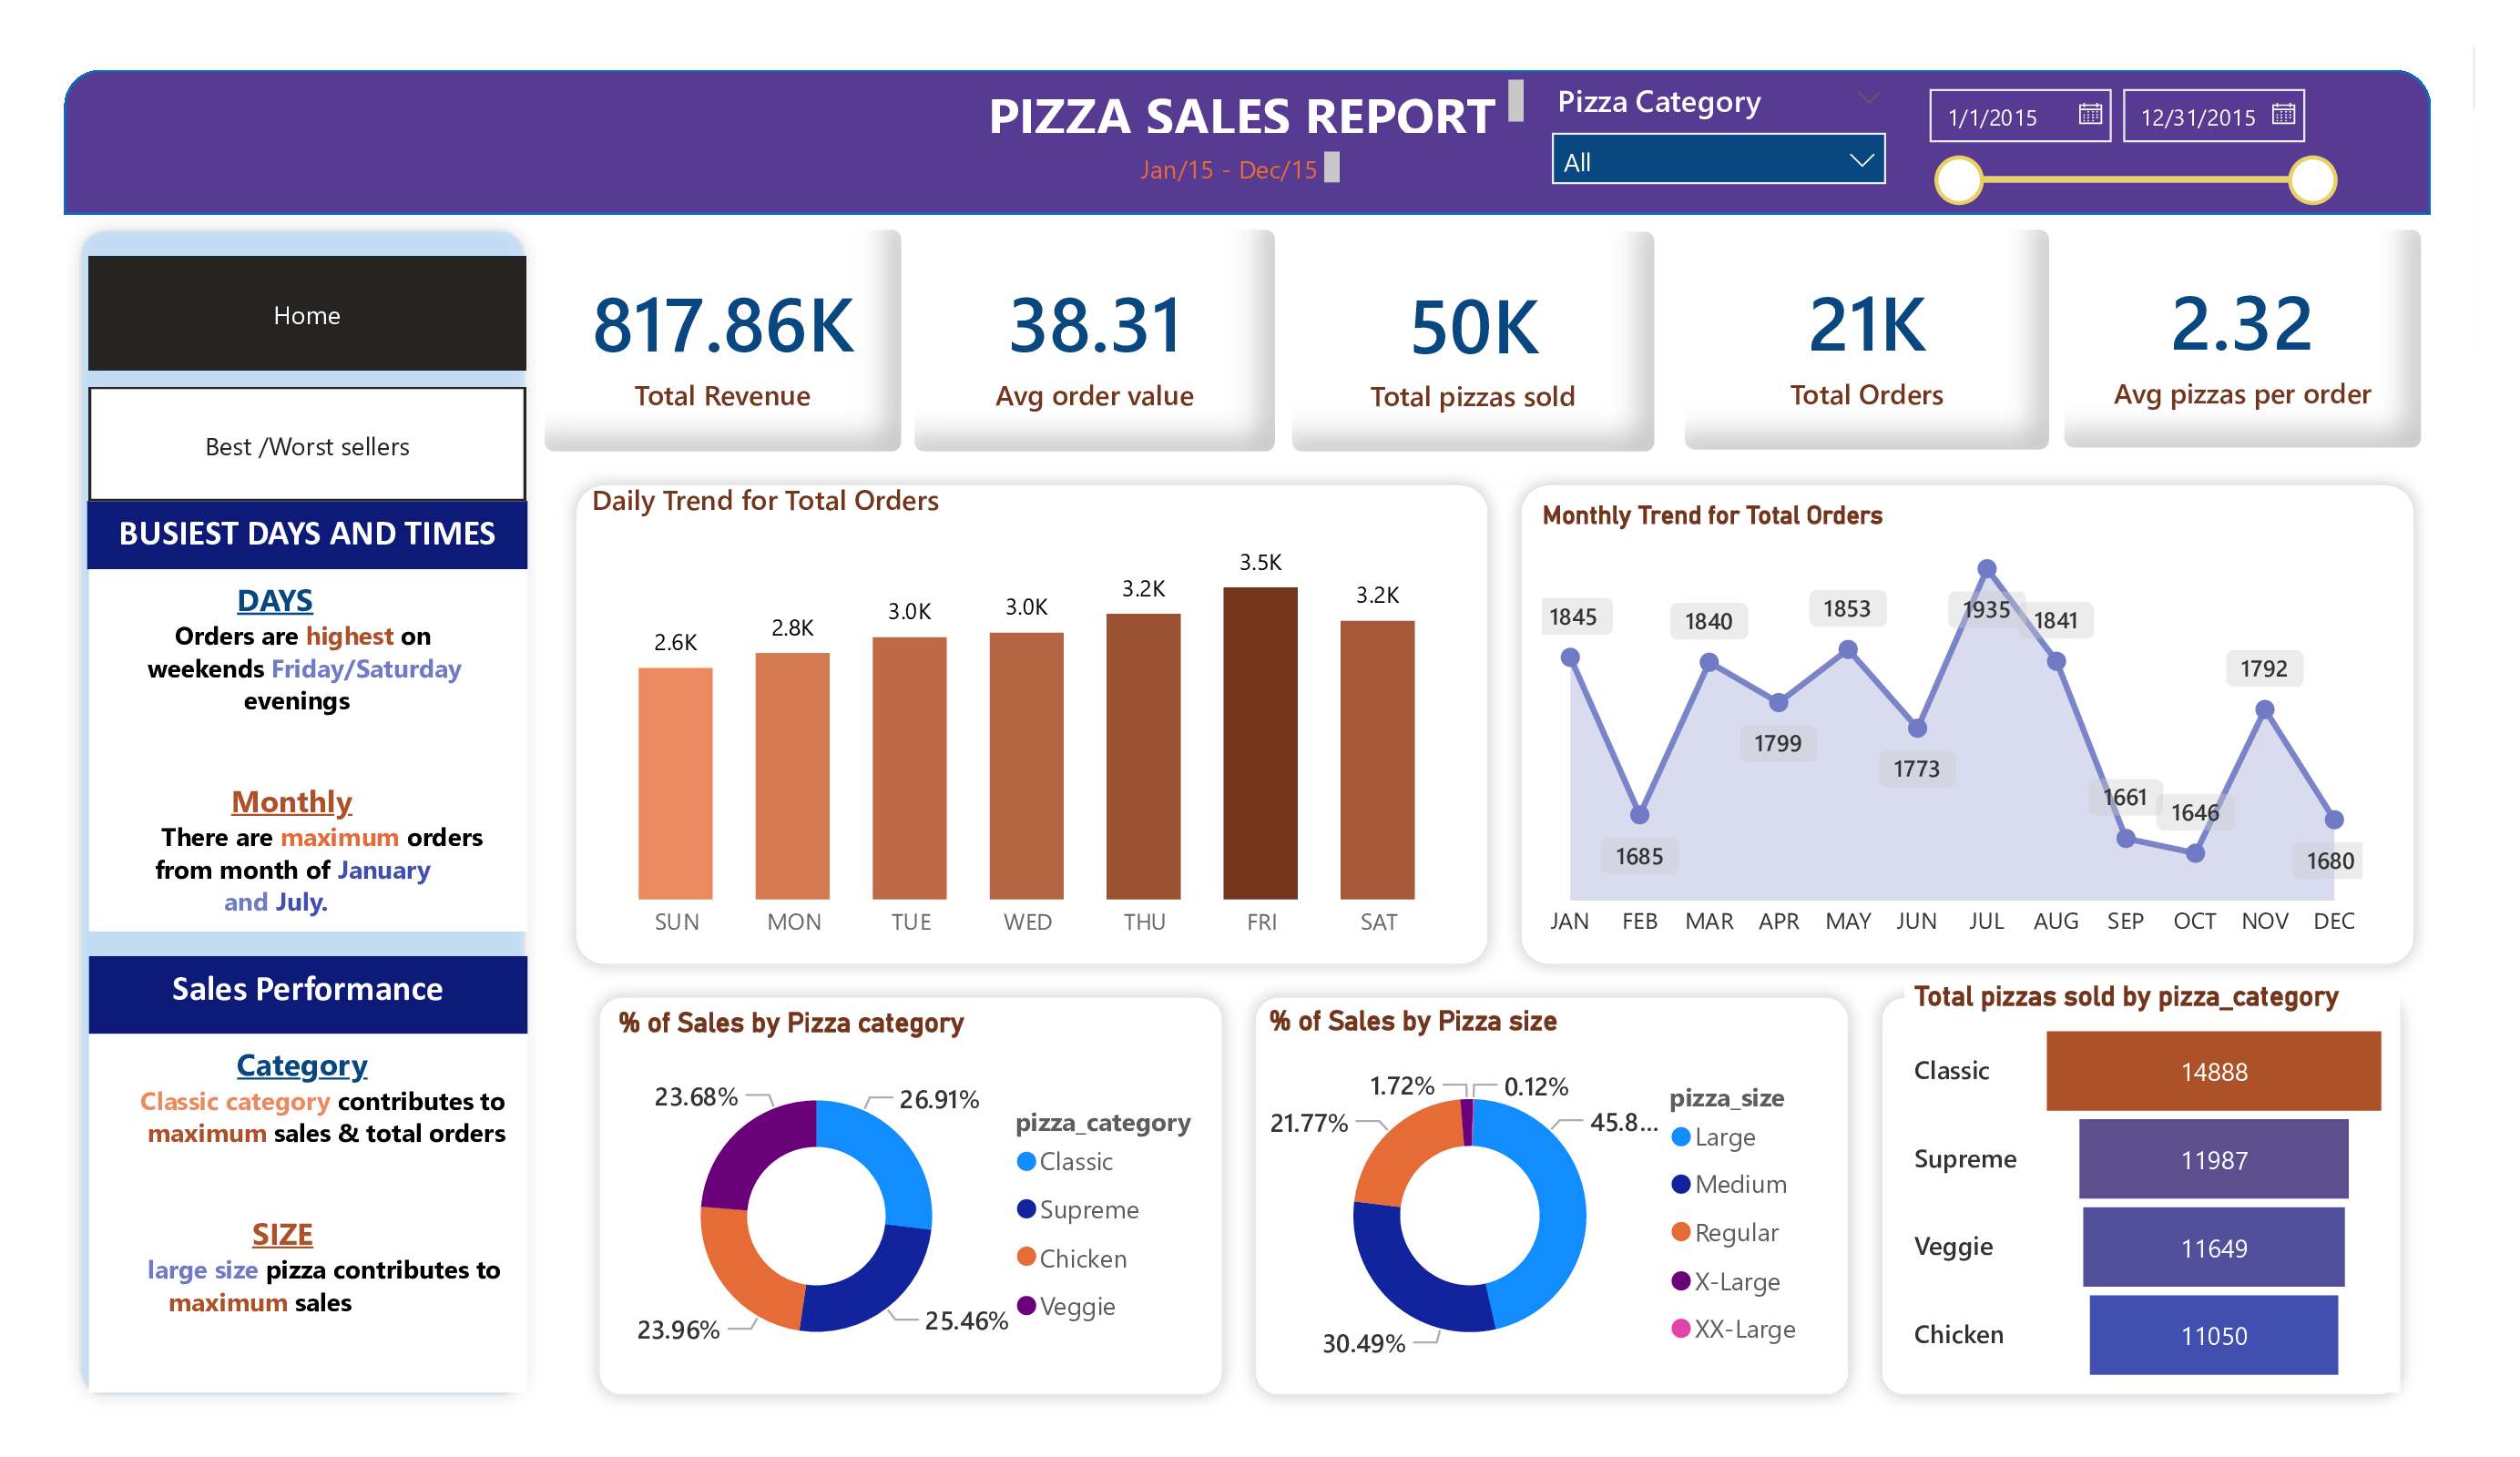

The page's visual inventory and layout, read from the dashboard file:
{"tool":"powerbi","page":{"name":"Home","canvas":[1280,720],"ordinal":0},"visuals":[{"type":"shape","box":[10,88.8,251.2,631.2],"z":0},{"type":"card","fields":{"Values":["pizza_sales.Total Revenue"]},"box":[262.1,96.1,190,119],"z":1000},{"type":"card","fields":{"Values":["pizza_sales.Avg order value"]},"box":[456.9,96.1,192.1,119],"z":2000},{"type":"card","fields":{"Values":["pizza_sales.Total pizzas sold"]},"box":[655.9,97.4,193.5,118],"z":3000},{"type":"card","fields":{"Values":["pizza_sales.Total Orders"]},"box":[863.1,96.1,193.5,118],"z":4000},{"type":"shape","box":[10,12.9,1247.1,75.7],"z":5000},{"type":"card","fields":{"Values":["pizza_sales.Avg pizzas per order"]},"box":[1063.5,96.1,189.4,116.6],"z":6000},{"type":"textbox","box":[485,13,299,38],"z":7000},{"type":"textbox","box":[569,51,118,26],"z":8000},{"type":"shape","box":[271.4,222.9,497.1,270],"z":9000},{"type":"columnChart","title":"Daily Trend for Total Orders","fields":{"Category":["pizza_sales.Order Day"],"Y":["pizza_sales.Total Orders"]},"box":[282.9,228.6,470,251.4],"z":10000},{"type":"shape","box":[768.6,222.9,488.6,270],"z":11000},{"type":"areaChart","title":"Monthly Trend for Total Orders","fields":{"Y":["pizza_sales.Total Orders"],"Category":["pizza_sales.Order Month"]},"box":[784.3,240,441.4,240],"z":12000},{"type":"shape","box":[282.9,492.9,345.7,227.1],"z":13000},{"type":"shape","box":[628.6,492.9,330,227.1],"z":14000},{"type":"shape","box":[958.6,492.9,291.4,227.1],"z":15000},{"type":"donutChart","title":"% of Sales by Pizza category","fields":{"Category":["pizza_sales.pizza_category"],"Y":["pizza_sales.Total Revenue"]},"box":[297.1,507.1,318.6,202.9],"z":16000},{"type":"donutChart","title":"% of Sales by Pizza size","fields":{"Y":["pizza_sales.Total Revenue"],"Category":["pizza_sales.pizza_size"]},"box":[640,505.7,301.4,204.3],"z":17000},{"type":"funnel","fields":{"Category":["pizza_sales.pizza_category"],"Y":["pizza_sales.Total pizzas sold"]},"box":[980,492.9,261.4,217.1],"z":18000},{"type":"textbox","box":[22,240.1,231.9,35.7],"z":19000},{"type":"textbox","box":[22.9,275.7,231.4,191.4],"z":20000},{"type":"textbox","box":[22.5,480,231.2,41.2],"z":21000},{"type":"textbox","box":[22.5,521.2,231.2,188.8],"z":22000},{"type":"slicer","fields":{"Values":["pizza_sales.pizza_category"]},"box":[784.3,12.9,195.7,75.7],"z":23000},{"type":"slicer","fields":{"Values":["pizza_sales.order_date"]},"box":[980,12.9,235.7,75.7],"z":24000},{"type":"pageNavigator","box":[22.9,111.4,230,60],"z":24001},{"type":"pageNavigator","box":[22.9,180,230,60],"z":24002}]}

Visuals, with their boxes in screenshot pixels (x1, y1, x2, y2):
shape: (left=65, top=214, right=541, bottom=1411)
card - pizza_sales.Total Revenue: (left=543, top=228, right=903, bottom=453)
card - pizza_sales.Avg order value: (left=913, top=228, right=1277, bottom=453)
card - pizza_sales.Total pizzas sold: (left=1291, top=230, right=1658, bottom=454)
card - pizza_sales.Total Orders: (left=1683, top=228, right=2051, bottom=452)
shape: (left=65, top=70, right=2431, bottom=214)
card - pizza_sales.Avg pizzas per order: (left=2064, top=228, right=2423, bottom=449)
textbox: (left=966, top=70, right=1534, bottom=142)
textbox: (left=1126, top=142, right=1349, bottom=191)
shape: (left=560, top=468, right=1504, bottom=981)
"Daily Trend for Total Orders" columnChart: (left=582, top=479, right=1474, bottom=956)
shape: (left=1504, top=468, right=2431, bottom=981)
"Monthly Trend for Total Orders" areaChart: (left=1534, top=501, right=2372, bottom=956)
shape: (left=582, top=981, right=1239, bottom=1411)
shape: (left=1239, top=981, right=1864, bottom=1411)
shape: (left=1864, top=981, right=2417, bottom=1411)
"% of Sales by Pizza category" donutChart: (left=609, top=1007, right=1214, bottom=1392)
"% of Sales by Pizza size" donutChart: (left=1260, top=1005, right=1831, bottom=1392)
funnel - pizza_sales.pizza_category x pizza_sales.Total pizzas sold: (left=1905, top=981, right=2402, bottom=1392)
textbox: (left=87, top=501, right=527, bottom=569)
textbox: (left=89, top=568, right=528, bottom=932)
textbox: (left=88, top=956, right=527, bottom=1034)
textbox: (left=88, top=1034, right=527, bottom=1392)
slicer - pizza_sales.pizza_category: (left=1534, top=70, right=1905, bottom=214)
slicer - pizza_sales.order_date: (left=1905, top=70, right=2352, bottom=214)
pageNavigator: (left=89, top=257, right=525, bottom=371)
pageNavigator: (left=89, top=387, right=525, bottom=501)
